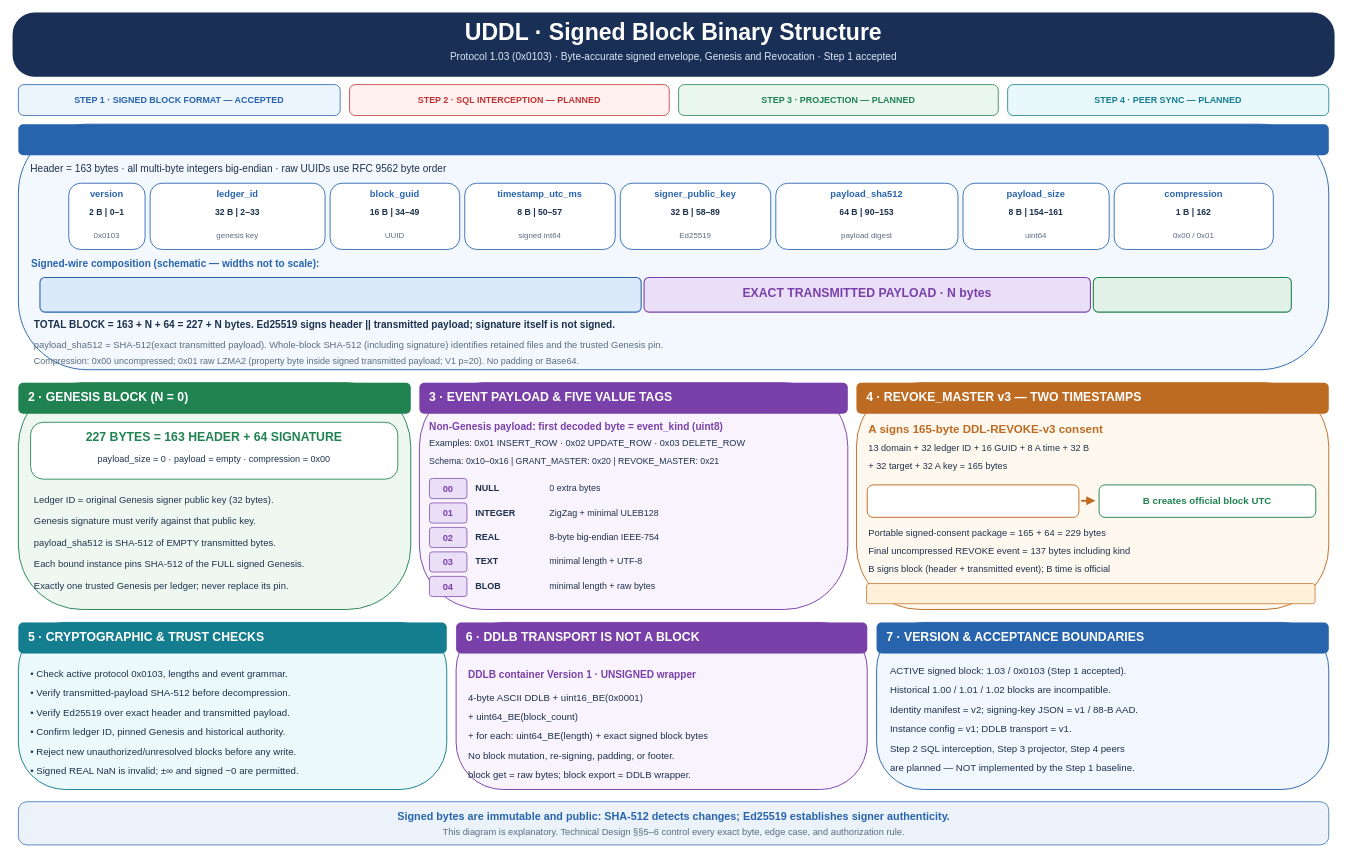
The diagram is 1346 pixels wide and 858 high, and some of its shapes have lost their labels. Each missing label, with the centre of its shape:
"1 · SIGNED BLOCK ENVELOPE — EXACT FIELD OFFSETS (ZERO-BASED)" belongs at point (673, 139).
"A consent + A signature (64 B)" belongs at point (972, 500).
"Consent valid iff 0 ≤ B_timestamp − A_timestamp ≤ 900000 ms" belongs at point (1090, 593).
"Ed25519 SIG · 64 B" belongs at point (1192, 294).
"SIGNED HEADER · 163 bytes" belongs at point (340, 294).
